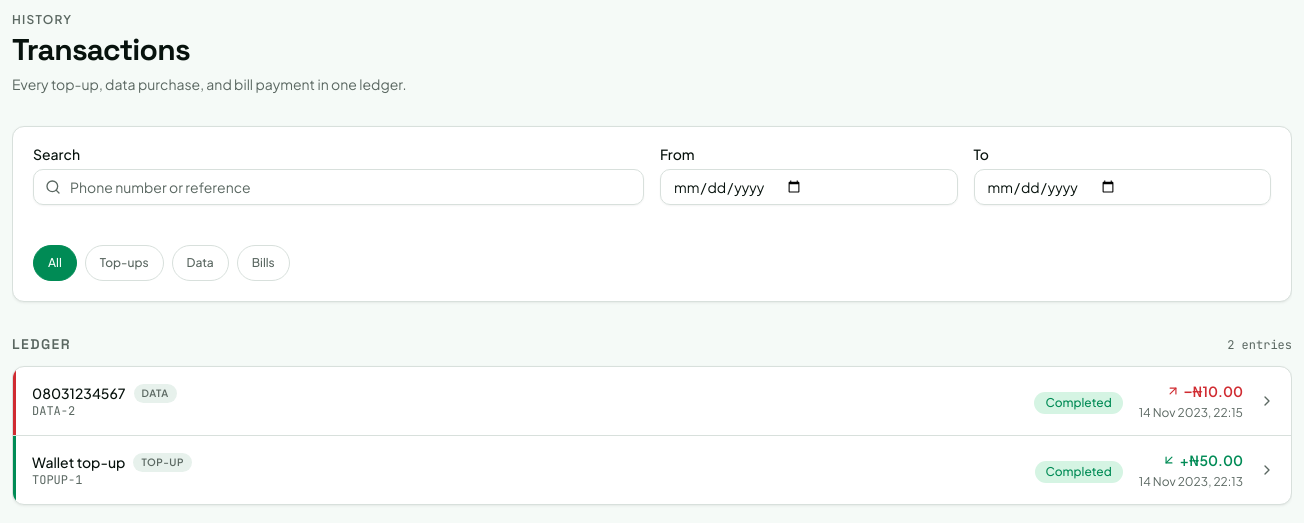
Test: TransactionsPage › filters transactions by type
Expected: the text "Wallet top-up" is shown, [32,452,125,472]
What coordinates should you click on to do the following:
click the tab "Data"
I would click on:
 (200, 263)
Its box is [172,245,229,281].
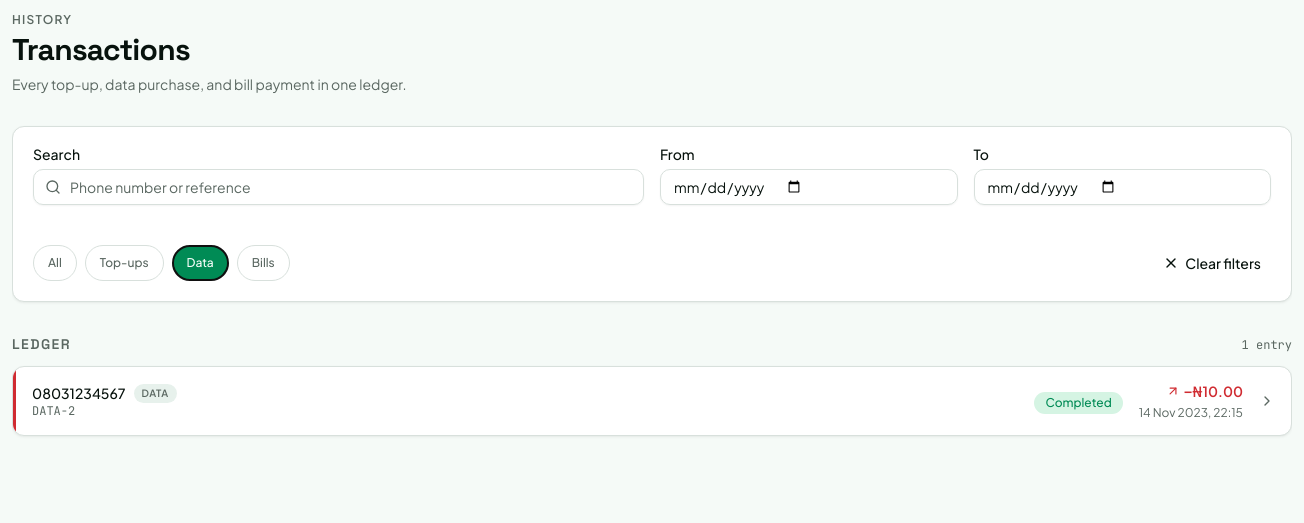
Expected: the text "08031234567" is shown, [32,383,126,403]
Result: the link "Wallet top-up" is gone
